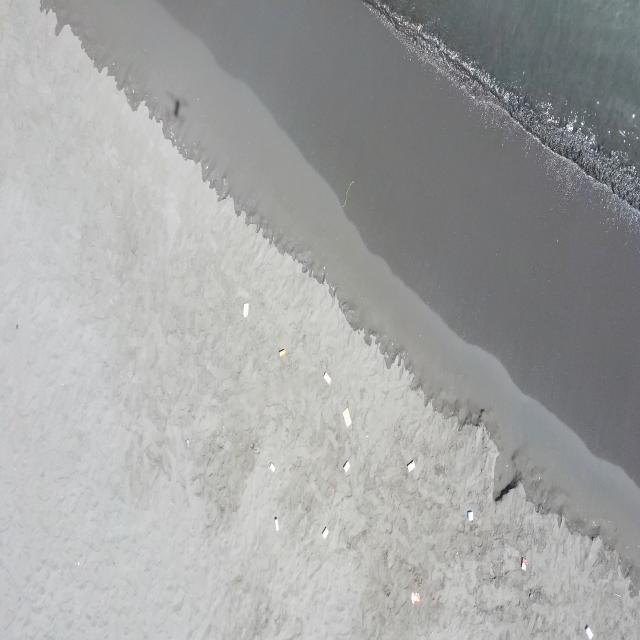retort-pouch: (340, 407, 352, 428), (584, 626, 596, 640), (242, 302, 251, 318), (323, 370, 332, 386), (406, 460, 417, 472), (412, 592, 422, 605), (520, 558, 530, 571), (321, 526, 330, 540), (274, 517, 282, 532), (342, 460, 351, 473), (268, 462, 276, 473), (466, 511, 474, 522), (278, 348, 286, 357)
